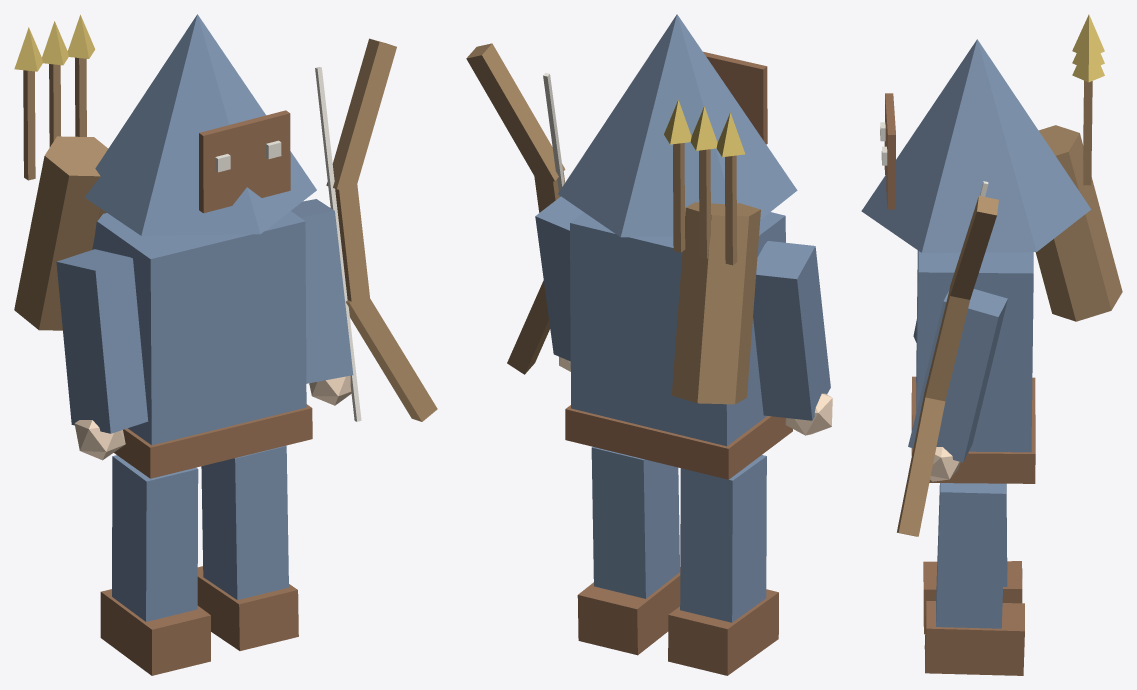
Rendered from npcpose_archer_idle_11.glb.
3 views of the same model, side by side, from view 1: azimuth 30°, elevation 25°; view 2: azimuth 150°, elevation 25°; view 3: azimuth 270°, elevation 25° (orthographic). The views are drawn at different scales.
Visible parts, largest first — view 1: npcpose; view 2: npcpose; view 3: npcpose.
Part boxes in pixels (box(x1,y1,x2,y2)): npcpose: box(14, 14, 437, 675); npcpose: box(466, 14, 832, 675); npcpose: box(861, 14, 1122, 675).
Size of the model in its own units: 0.9091 by 1.62 by 0.6357.
